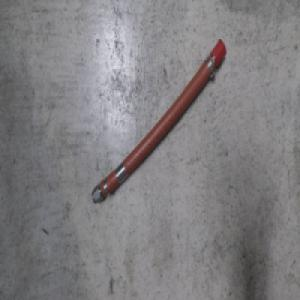Hose: (90, 37, 228, 208)
